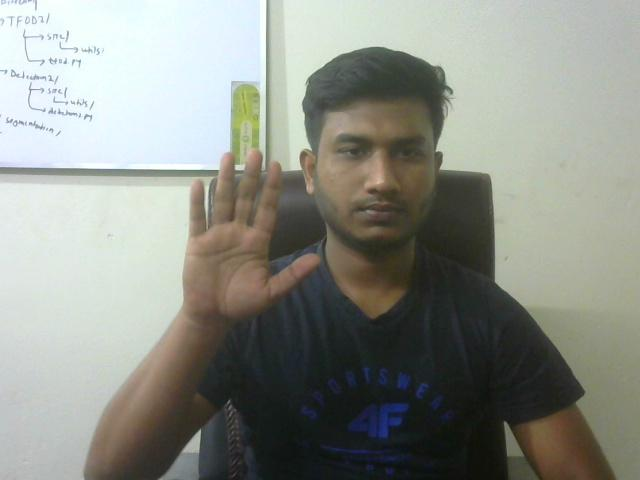Hello: (169, 151, 325, 335)
